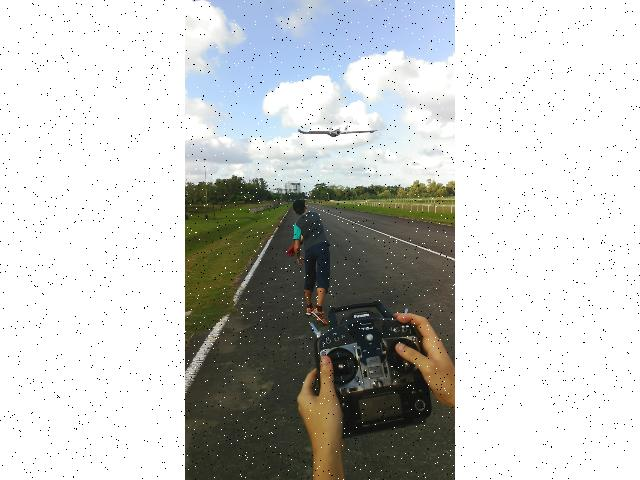Anti-Drone: (298, 125, 380, 137)
